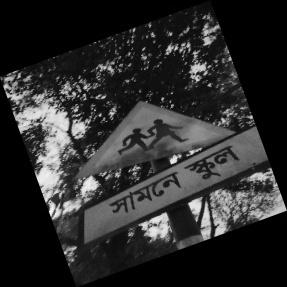School-in-front: (73, 100, 269, 251)
